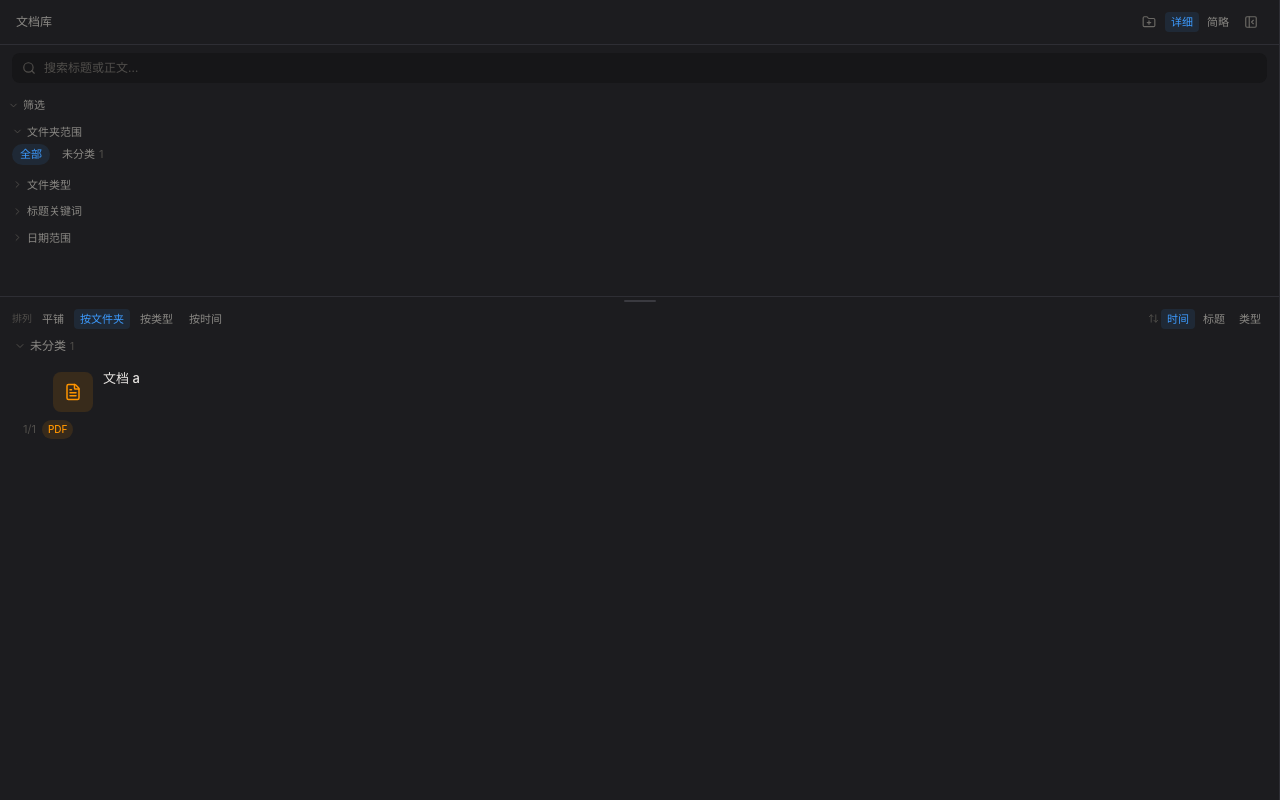
Test: FTS 截断提示 › 取回**恰好**上限条数 → 提示出现（判据是 `>=` 而不是 `>`）
Step 1. Type "关键词" into the field with placeholder "搜索标题或正文…" → (650, 68), box x1=44 y1=59 x2=1257 y2=77
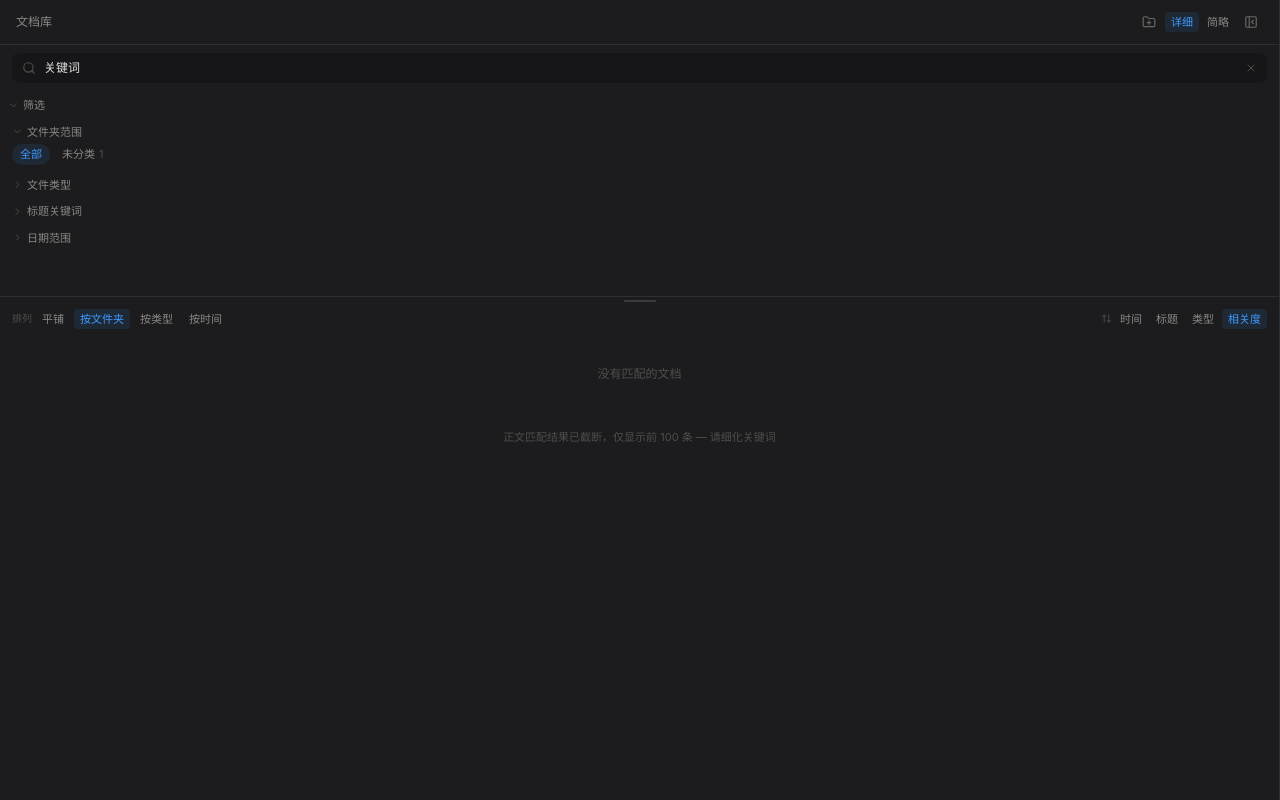
Expected: the text "正文匹配结果已截断，仅显示前 100 条 — 请细化关键词" is shown, x1=503 y1=430 x2=776 y2=444
